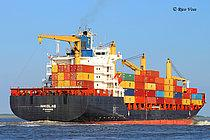Ship: (10, 22, 209, 127)
